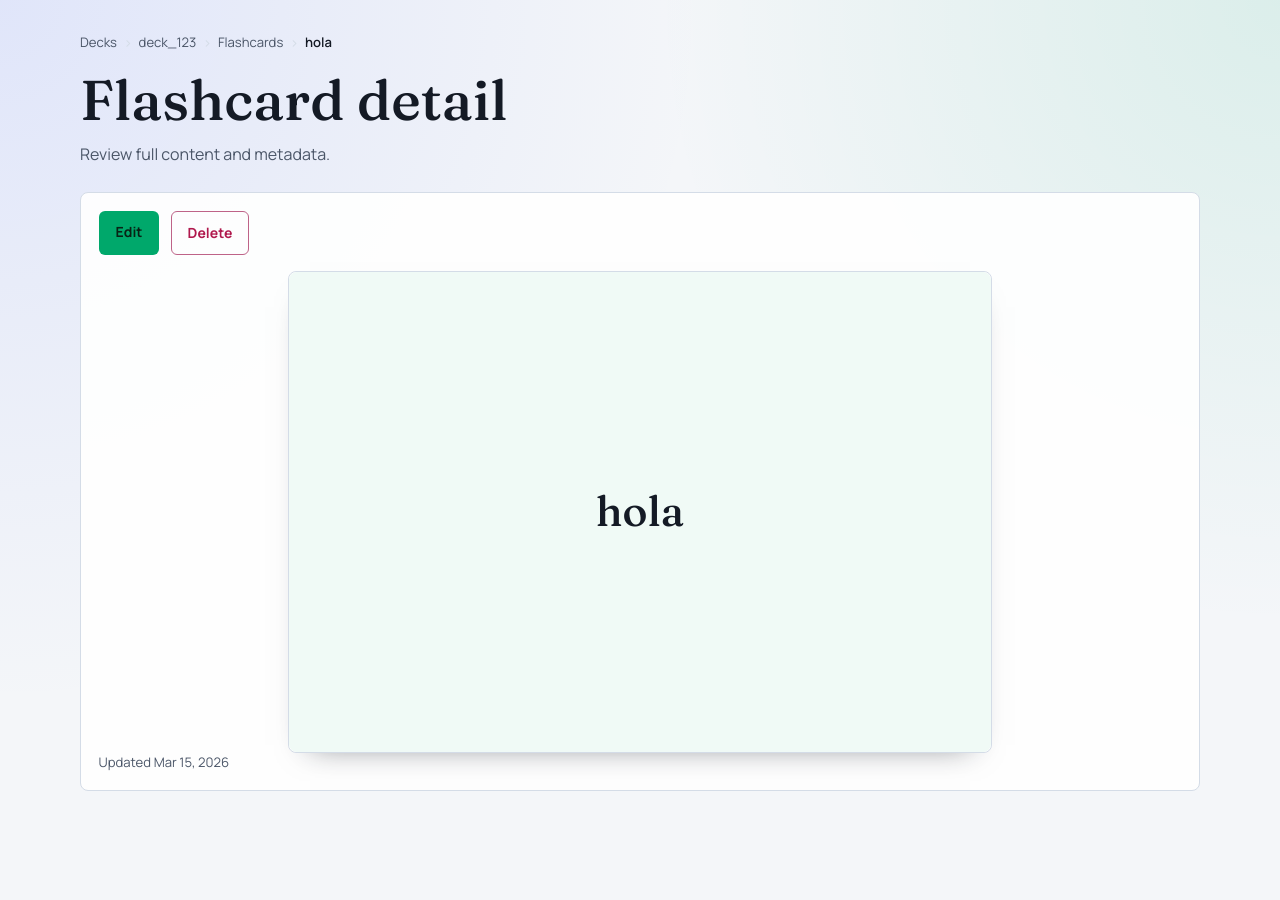
Test: flashcard routes › toggles from term front to definition back on click
This screenshot has width=1280, height=900.
Expected: the 2nd text "hola" is shown, x1=596 y1=488 x2=684 y2=535
Expected: the text "hello" is not shown
Click the button "hola".
click(640, 512)  # box x1=288 y1=271 x2=992 y2=753
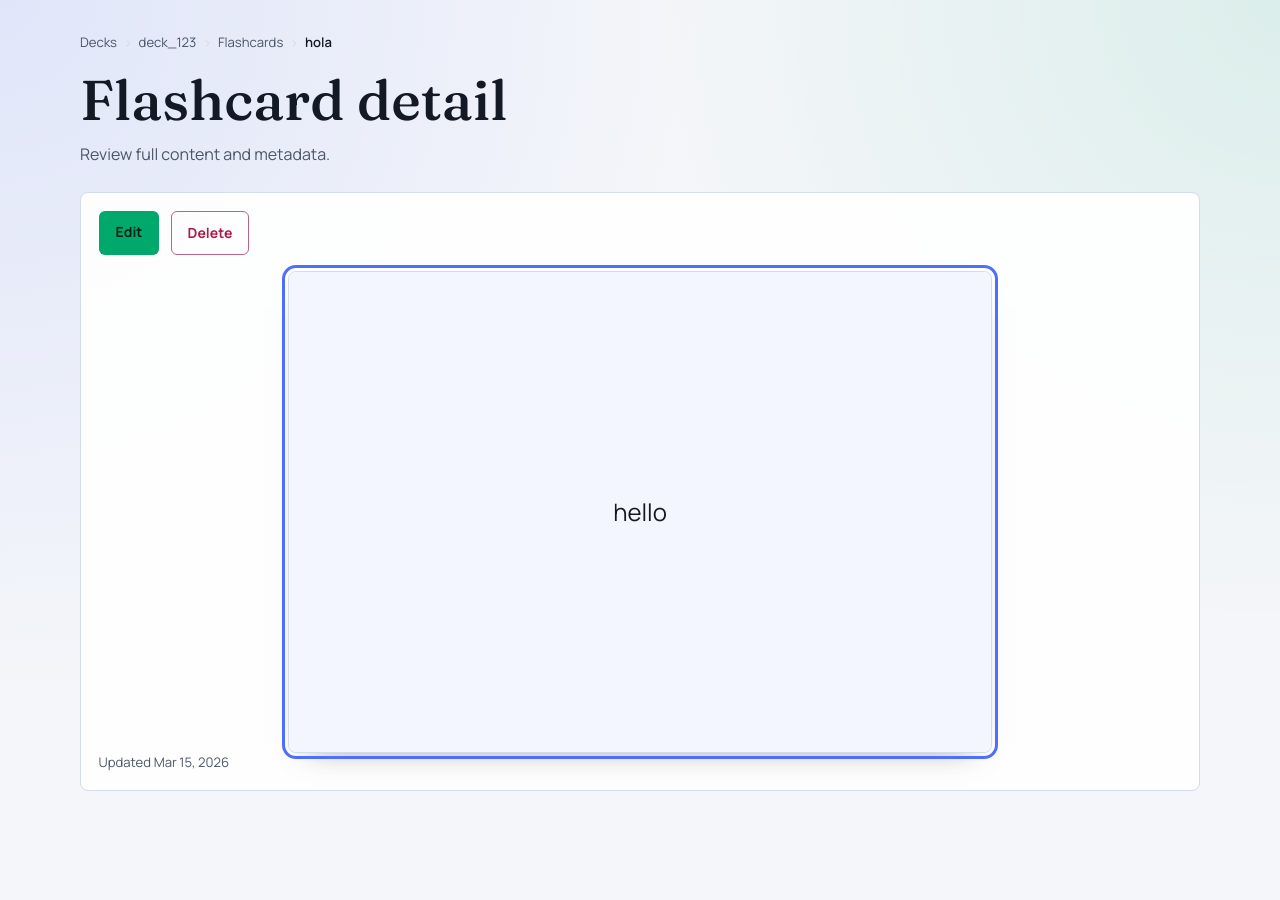
Expected: the text "hello" is shown, x1=613 y1=492 x2=667 y2=531
